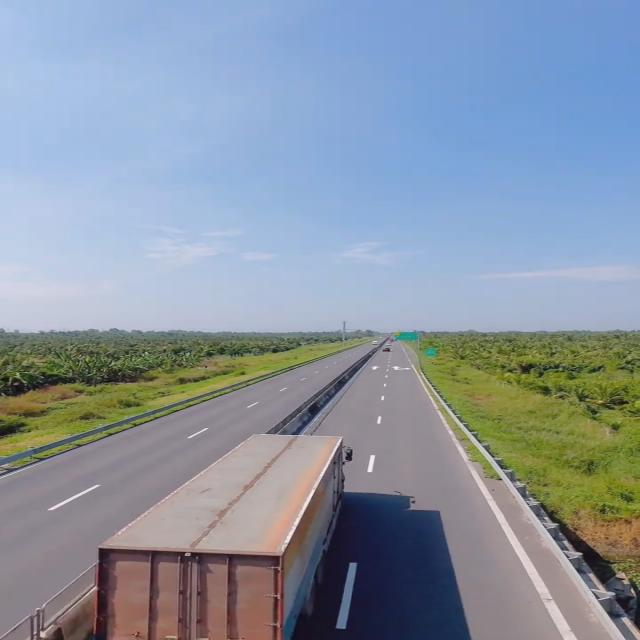truck: (94, 432, 352, 640)
